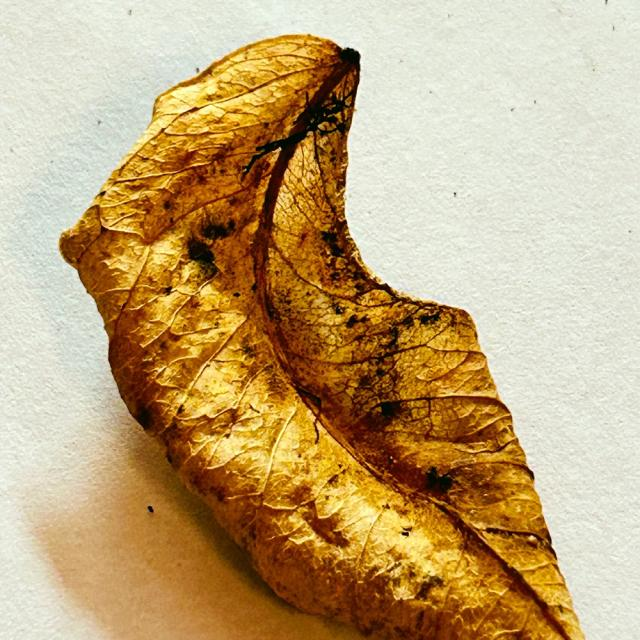DryLeaf_Lemon: (60, 35, 584, 639)
